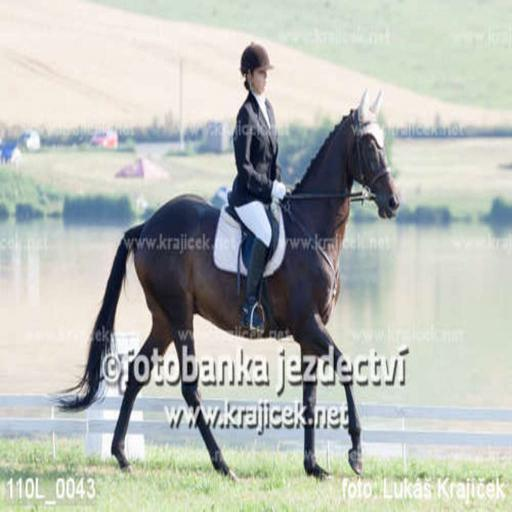Horse: (45, 83, 399, 483)
